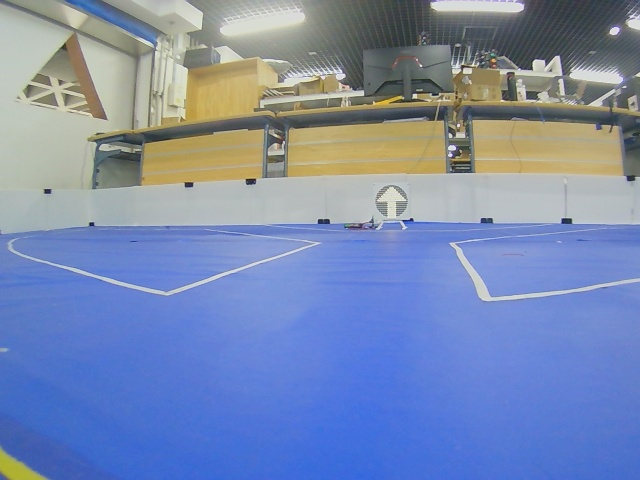straight_yellow: (373, 182, 411, 221)
